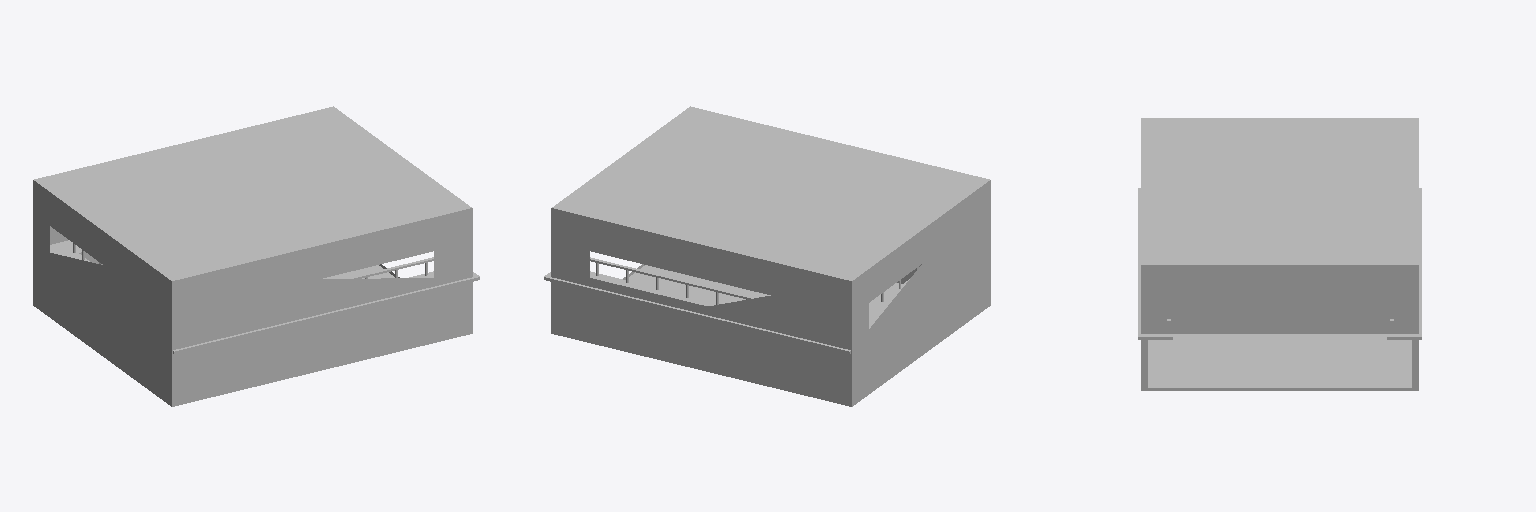
Rendered from factory.obj.
The picture shows the model from 3 angles: view 1: azimuth 30°, elevation 25°; view 2: azimuth 150°, elevation 25°; view 3: azimuth 270°, elevation 25°; orthographic projection.
Parts seen in each view (by area): view 1: Stanza_Cube; view 2: Stanza_Cube; view 3: Stanza_Cube.
Part boxes in pixels (x1,y1,x2,y2): Stanza_Cube: (33,106,479,406); Stanza_Cube: (544,106,990,406); Stanza_Cube: (1138,118,1421,390).
Bounding box in the file's own units: 40.84 × 16 × 32.73.